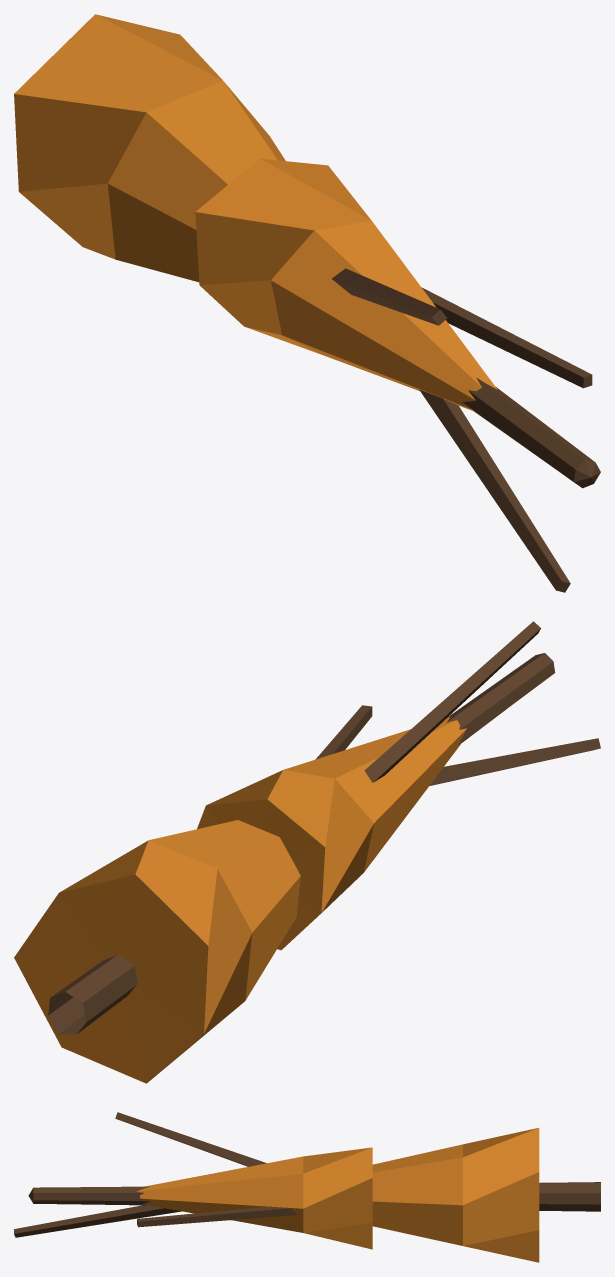
File: dying_1.glb
The picture shows the model from 3 angles, top to bottom: view 1: azimuth 30°, elevation 25°; view 2: azimuth 150°, elevation 25°; view 3: azimuth 270°, elevation 25°; orthographic projection. The views are drawn at different scales.
Parts seen in each view (by area): view 1: tree_09_dying_1; view 2: tree_09_dying_1; view 3: tree_09_dying_1.
Boxes of the visible parts, x1,y1,x2,y2 form: tree_09_dying_1: (14,14,600,592); tree_09_dying_1: (14,621,600,1083); tree_09_dying_1: (14,1112,600,1262).
Bounding box in the file's own units: 8.28 × 8.59 × 36.35.
